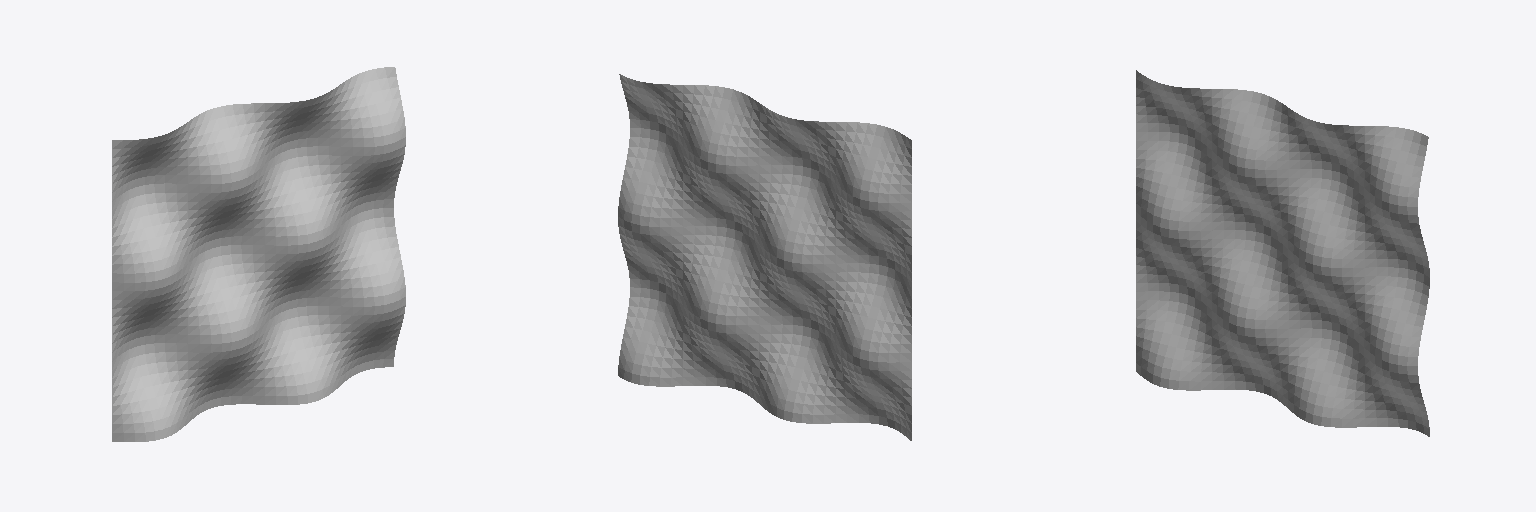
Rendered from testPlane.obj.
3 renders of one model, left to right at view 1: azimuth 30°, elevation 25°; view 2: azimuth 150°, elevation 25°; view 3: azimuth 330°, elevation 25°, orthographic.
Bounding box in the file's own units: 0.17 × 0.17 × 0.0198.